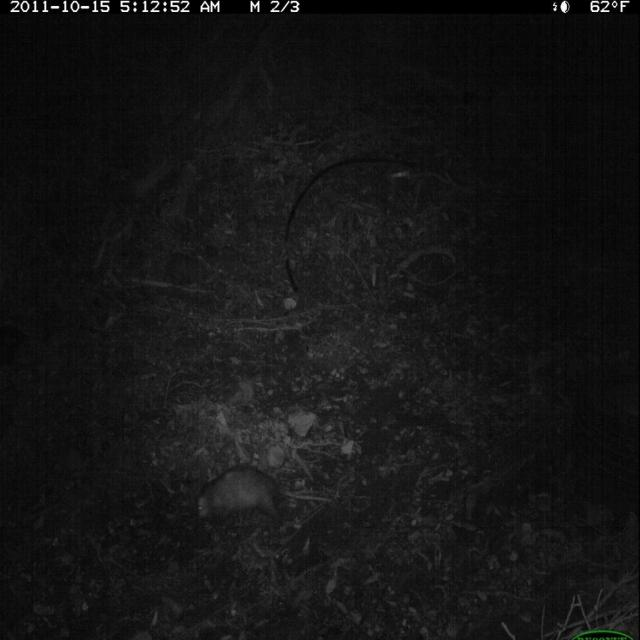opossum: (192, 459, 334, 531)
